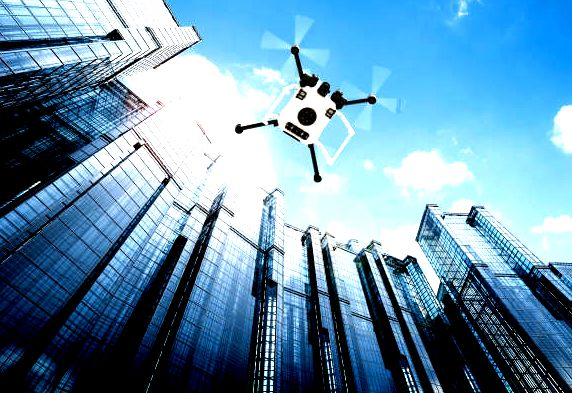Drone: (211, 28, 403, 199)
